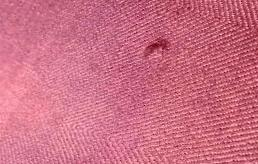knot: (142, 37, 171, 62)
